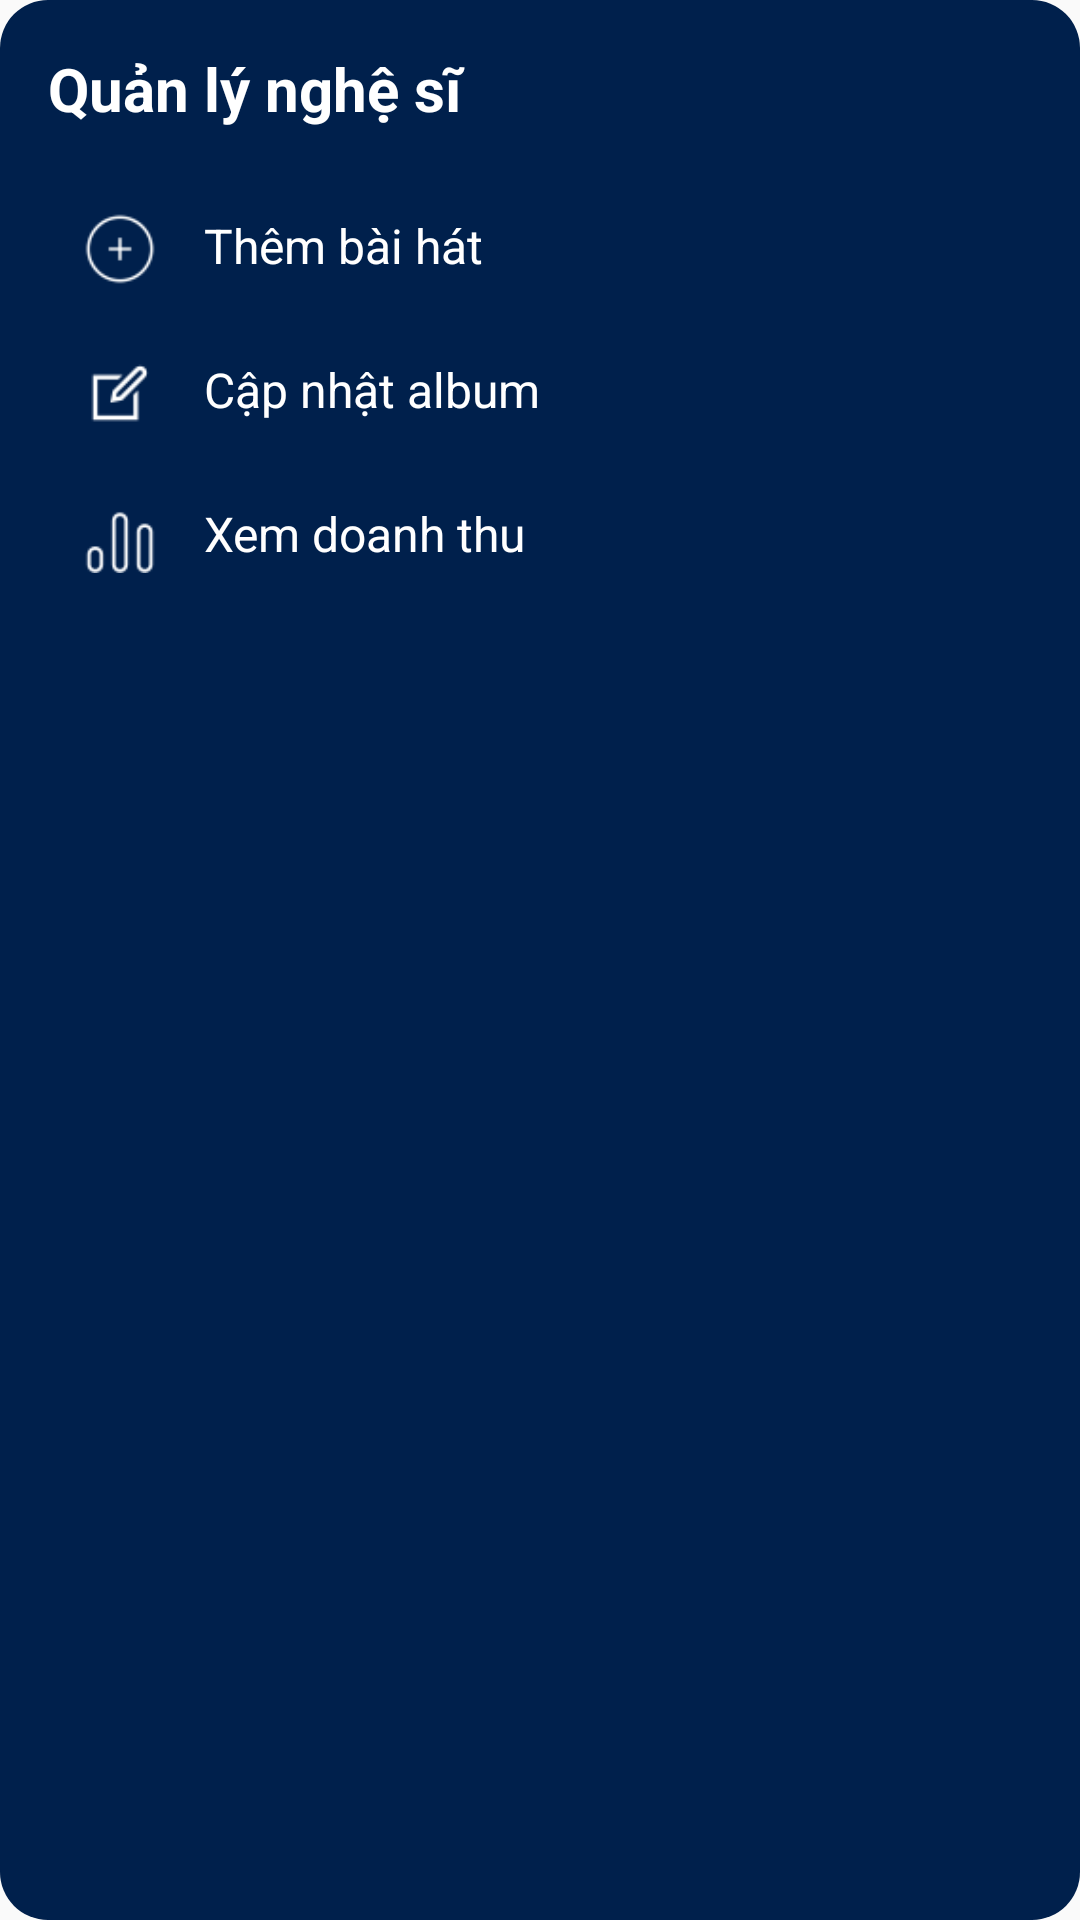

Point at icon controls on the screen. Image size 1080px×1920px, points as [x,y].
addbutton: [120,249]
chart: [120,542]
edit: [119,393]
